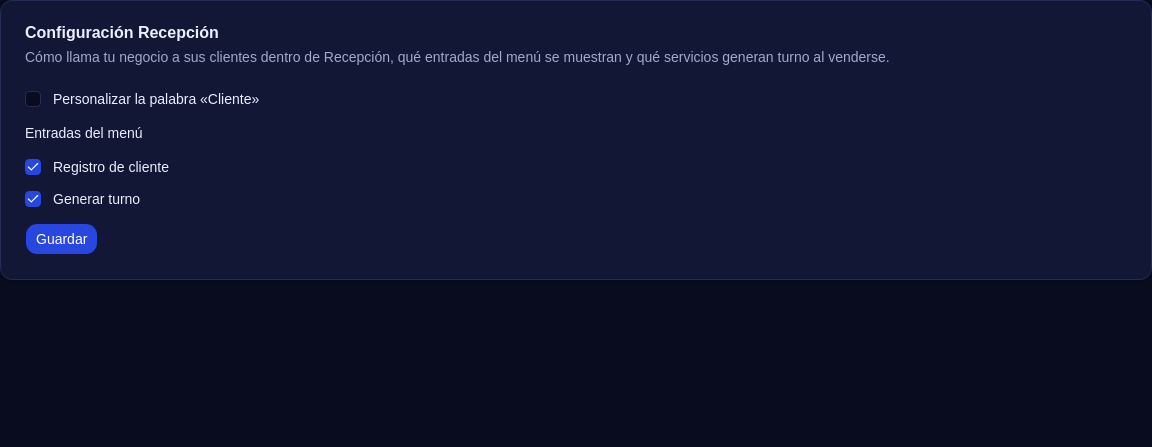
«Configuración Recepción» en Mi perfil (F9-RECEP-18) › una palabra inválida no se manda y se dice por qué
The width and height of the screenshot is (1152, 447).
Click the checkbox named "Personalizar la palabra «Cliente»".
click(33, 99)  # box [25,91,41,107]
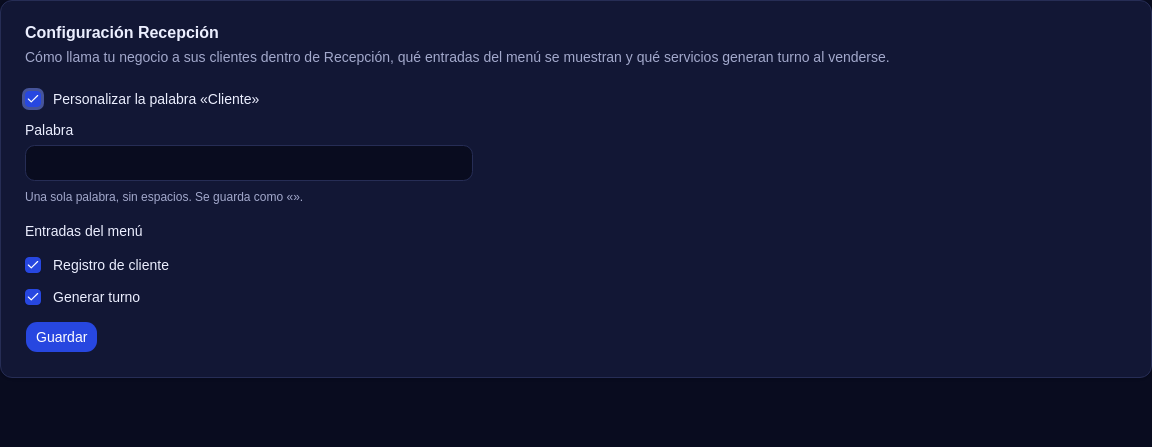
Personalizar marcado y palabra vacía: no hay nada válido que guardar.
Click the button "Guardar".
click(62, 337)  # box [25,321,98,353]
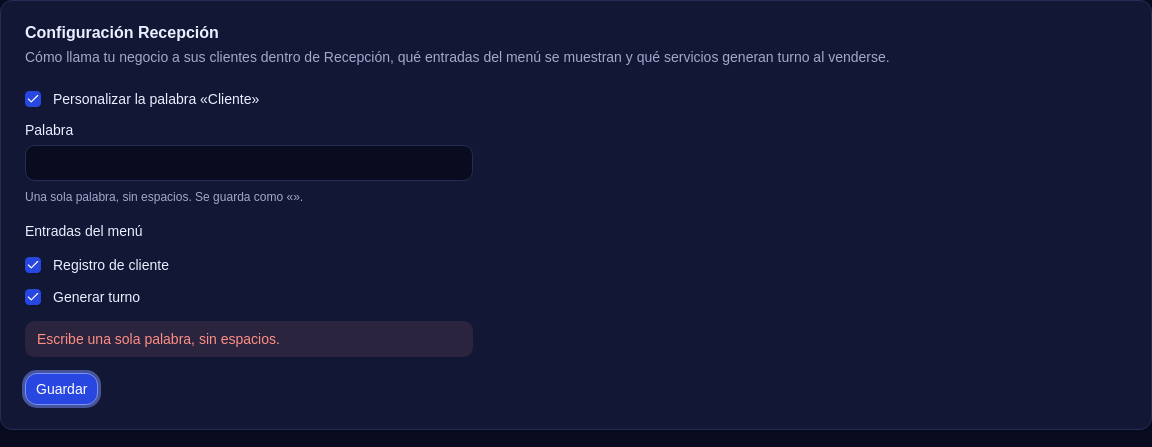
Now the message reads "Escribe una sola palabra, sin espacios.", box [37,331,280,347]
